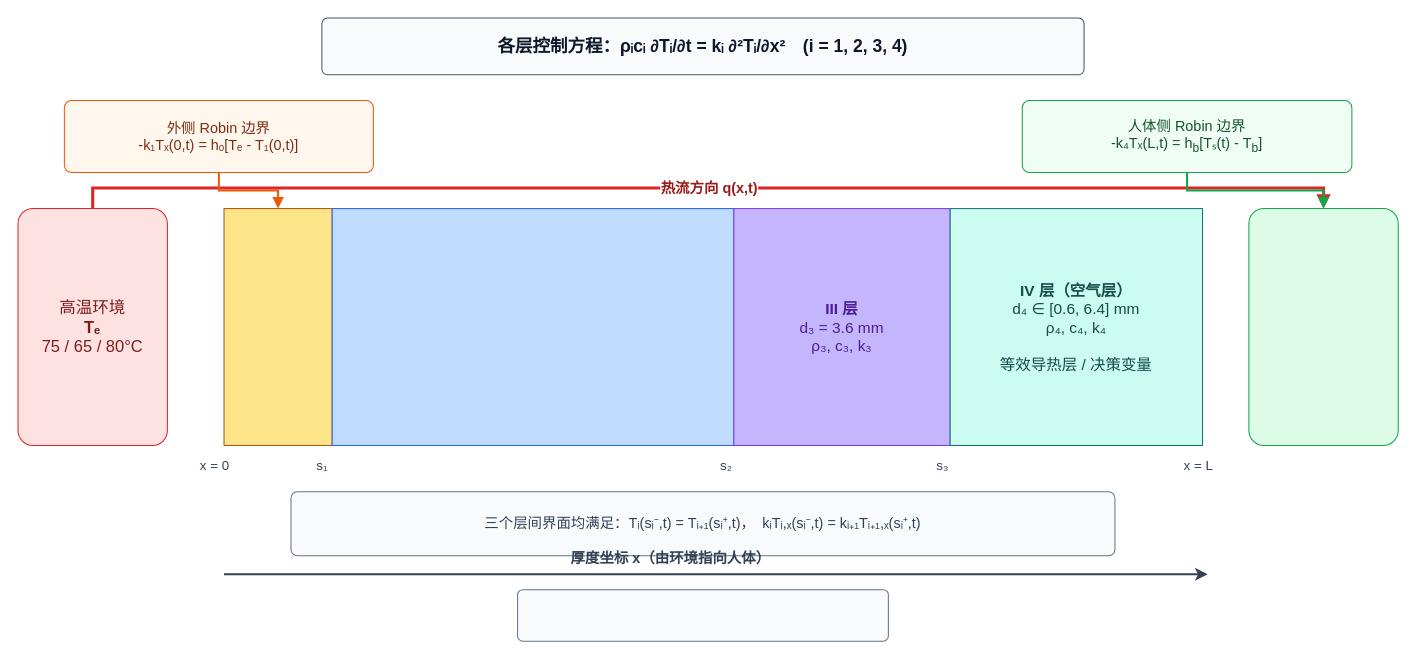
Image size: 1416x659. Some labels were removed from this diagram. The box of each missing label's shape, as (x1, y1, x2, y2) in pixels:
I 层 d₁ = 0.6 mm ρ₁, c₁, k₁: (223, 208, 332, 445)
II 层 d₂ ∈ [0.6, 25] mm ρ₂, c₂, k₂ 主要保温层 / 决策变量: (331, 208, 734, 445)
人体热库 T b = 37°C 输出：皮肤外侧温度 Tₛ(t): (1248, 208, 1398, 445)
初始条件：Tᵢ(x,0) = 37°C: (517, 589, 888, 641)
